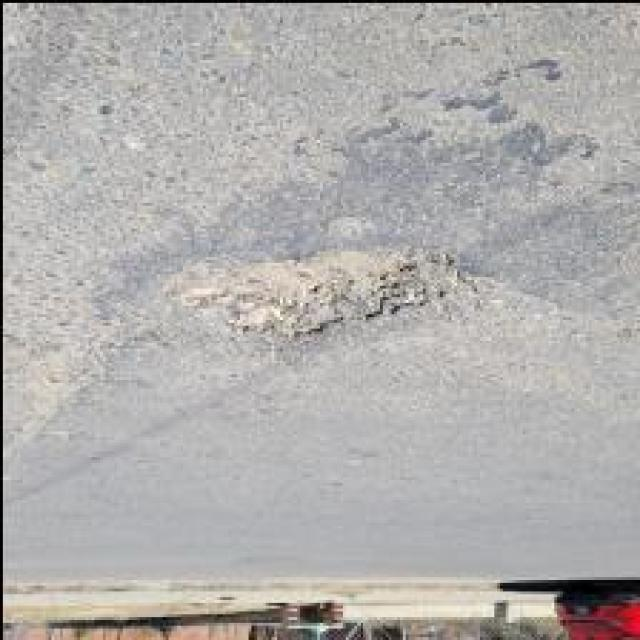BACHE: (167, 250, 475, 338)
PARCHE: (228, 129, 639, 317)
